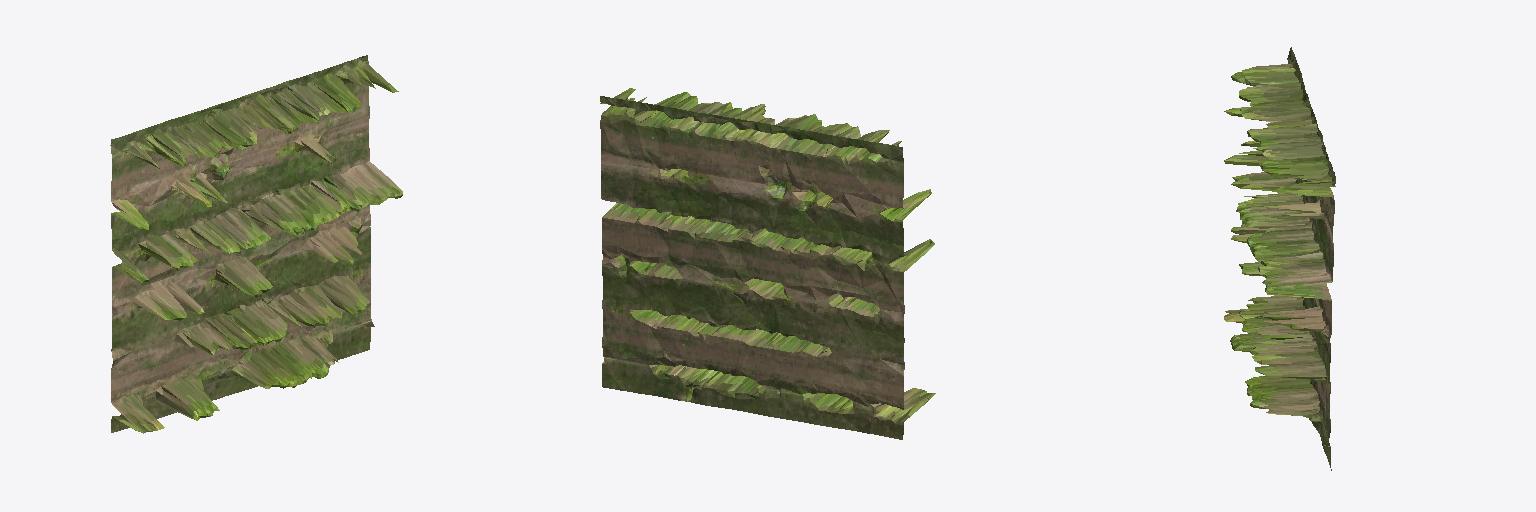
3 renders of one model, left to right at view 1: azimuth 30°, elevation 25°; view 2: azimuth 150°, elevation 25°; view 3: azimuth 270°, elevation 25°, orthographic.
Visible parts, largest first — view 1: grp1; view 2: grp1; view 3: grp1.
Boxes of the visible parts, x1,y1,x2,y2 form: grp1: [110, 55, 402, 433]; grp1: [600, 88, 935, 439]; grp1: [1224, 47, 1335, 470].
Size of the model in its own units: 10 by 10 by 3.48.
1 materials, 1 textured.